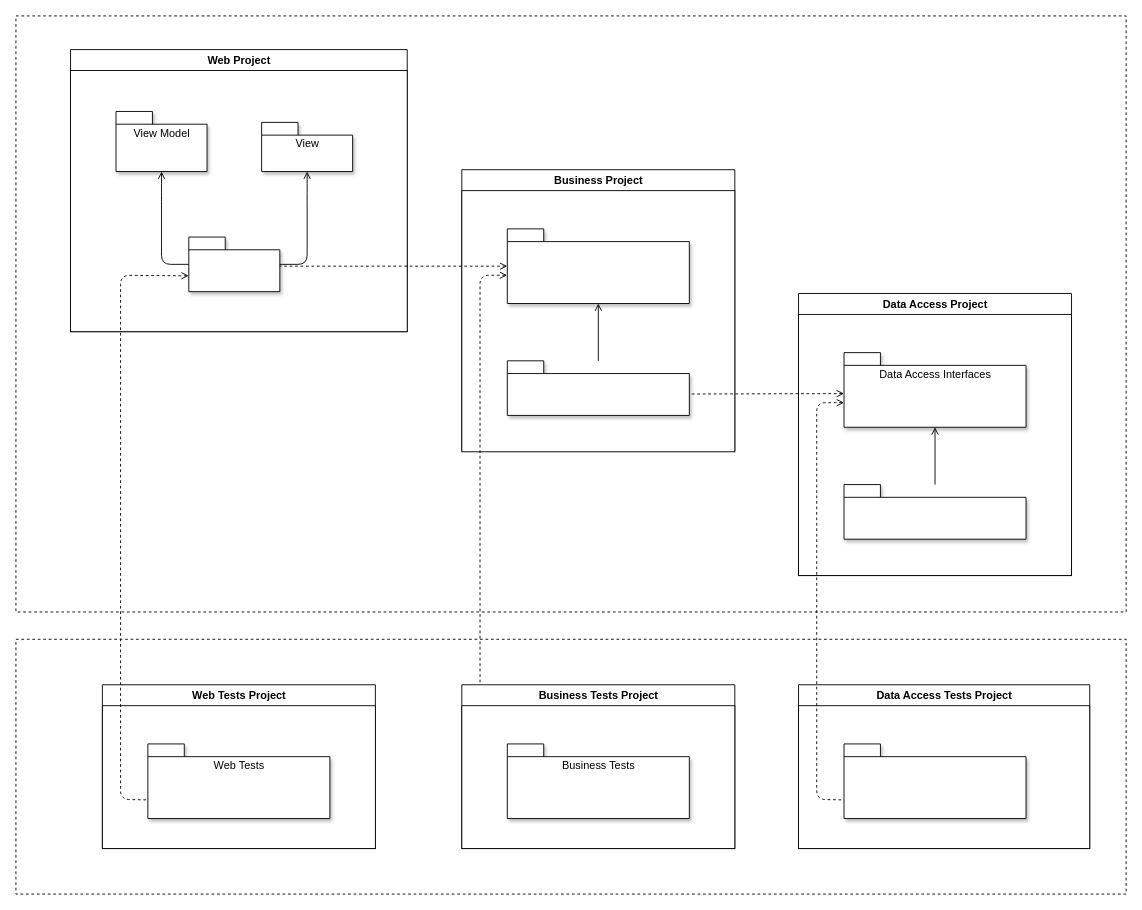
This 1142x910 diagram has some shape labels left out. The centre of each missing label's shape, as x and y in pixels:
Business Interfaces: (x=599, y=267)
Business Layer: (x=599, y=389)
Controller: (x=234, y=265)
Data Access Layer: (x=935, y=513)
Data Access Tests: (x=935, y=782)
